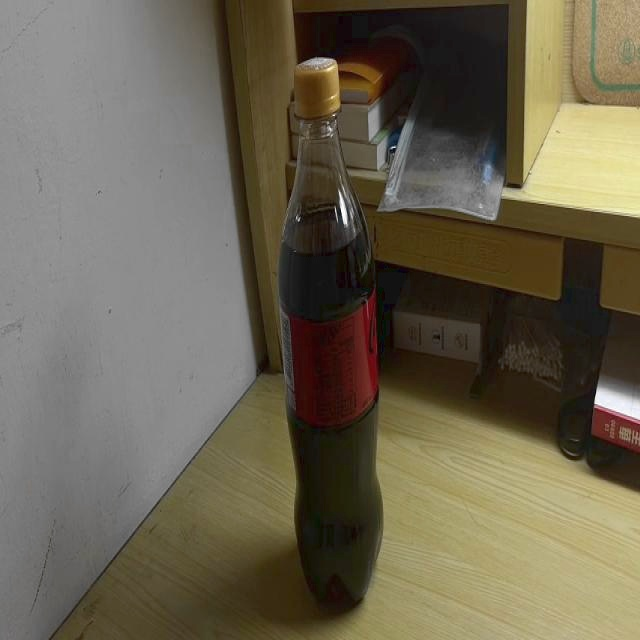Coca-Cola: (276, 56, 386, 610)
